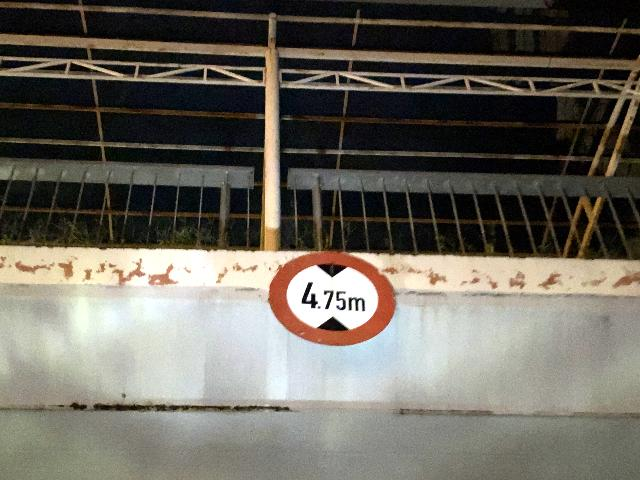han-che-chieu-cao: (269, 250, 395, 346)
